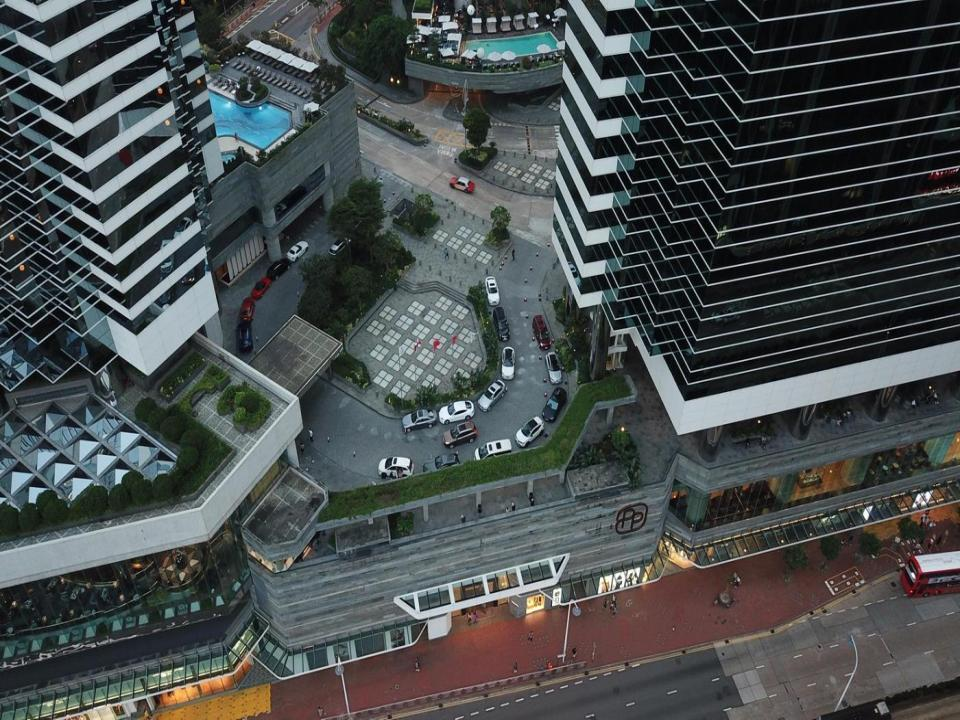bus: (896, 551, 960, 597)
car: (422, 450, 459, 479), (441, 423, 478, 450), (516, 414, 545, 448), (542, 387, 568, 423), (477, 380, 506, 411), (378, 455, 414, 479), (402, 408, 434, 430), (438, 401, 473, 421), (544, 352, 562, 386), (234, 319, 253, 350), (448, 175, 476, 194), (251, 275, 272, 300), (484, 273, 499, 307), (286, 240, 310, 260), (267, 258, 289, 278), (239, 296, 255, 323), (502, 344, 514, 378)
van: (472, 439, 511, 466), (531, 313, 553, 353), (492, 304, 511, 346), (328, 238, 353, 258)
